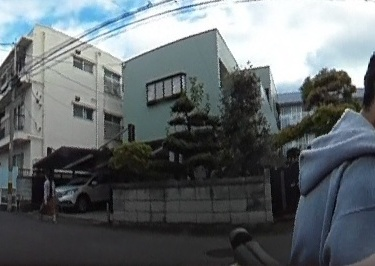person: (40, 169, 58, 220)
